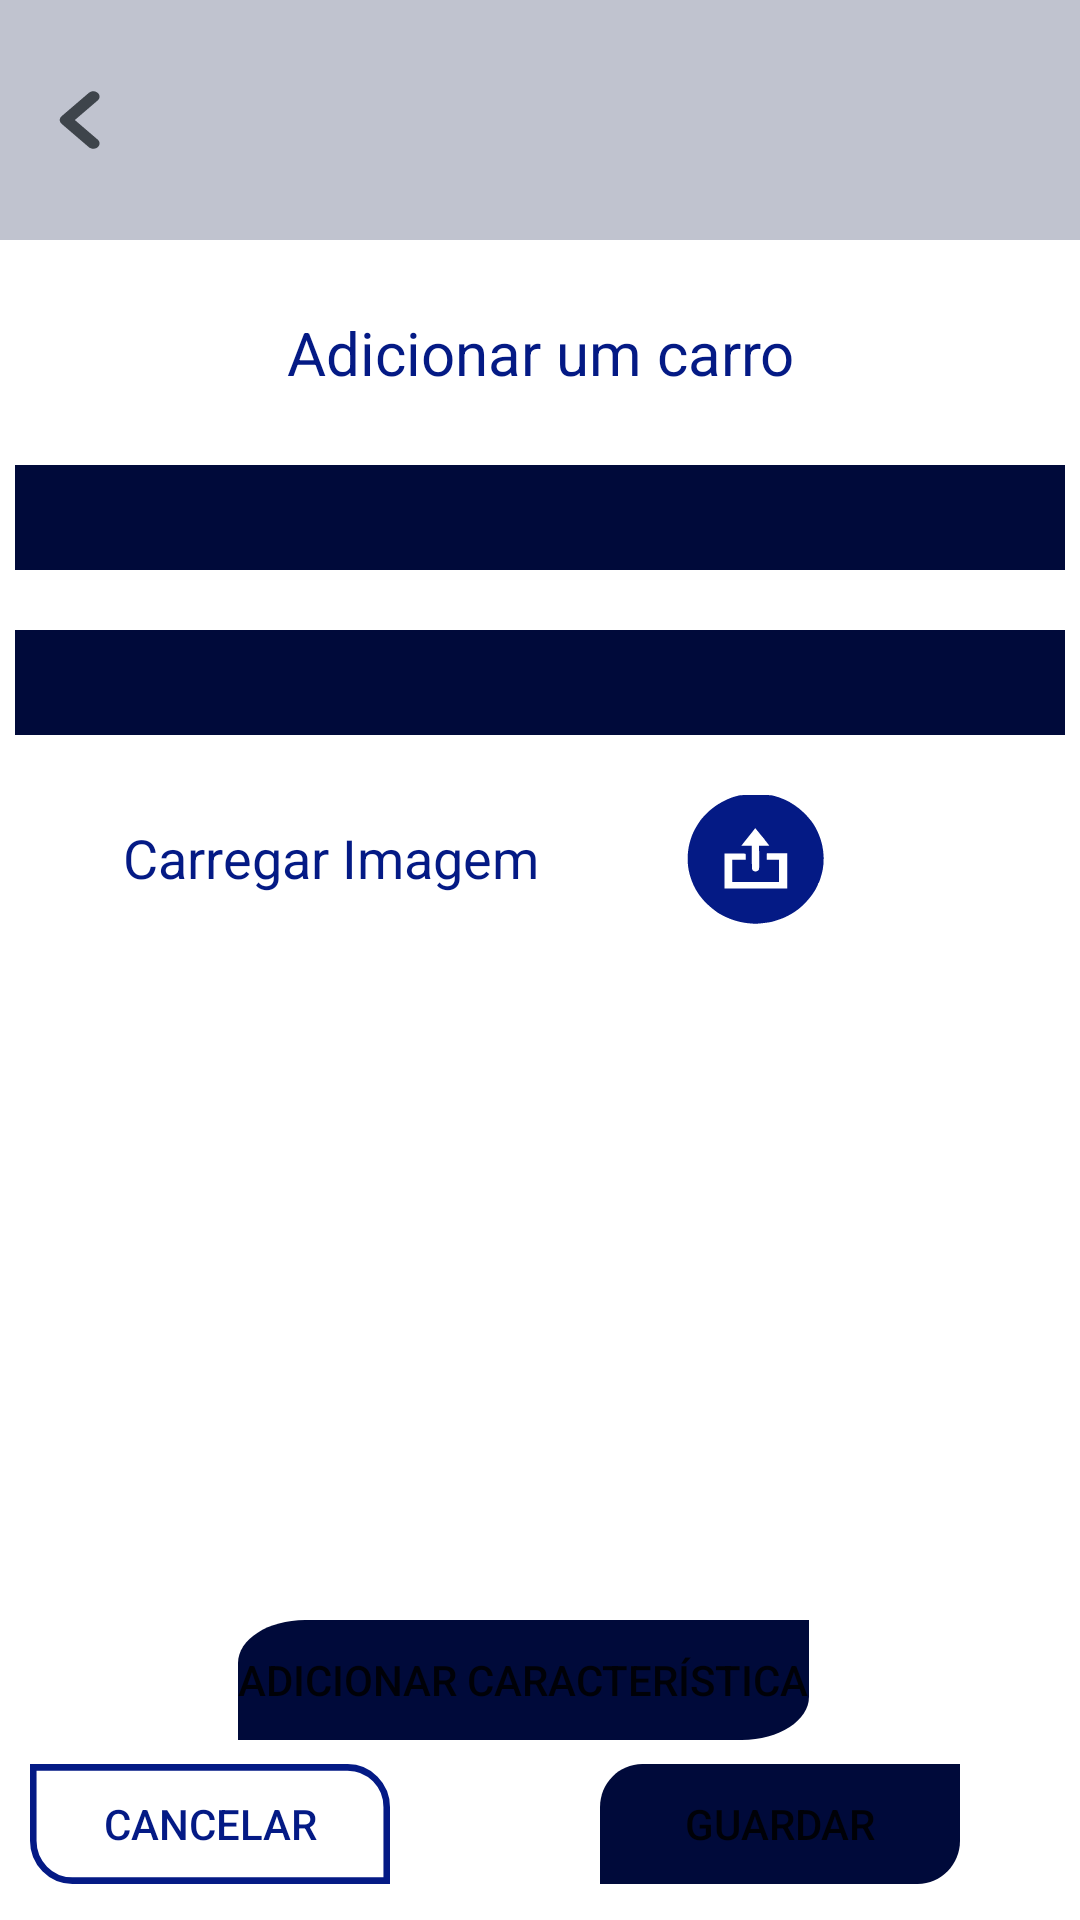

Named icons in this screenshot (1080x1920) and their bounding boxes, (x1, y1, x2, y2):
upload: (687, 795, 824, 924)
